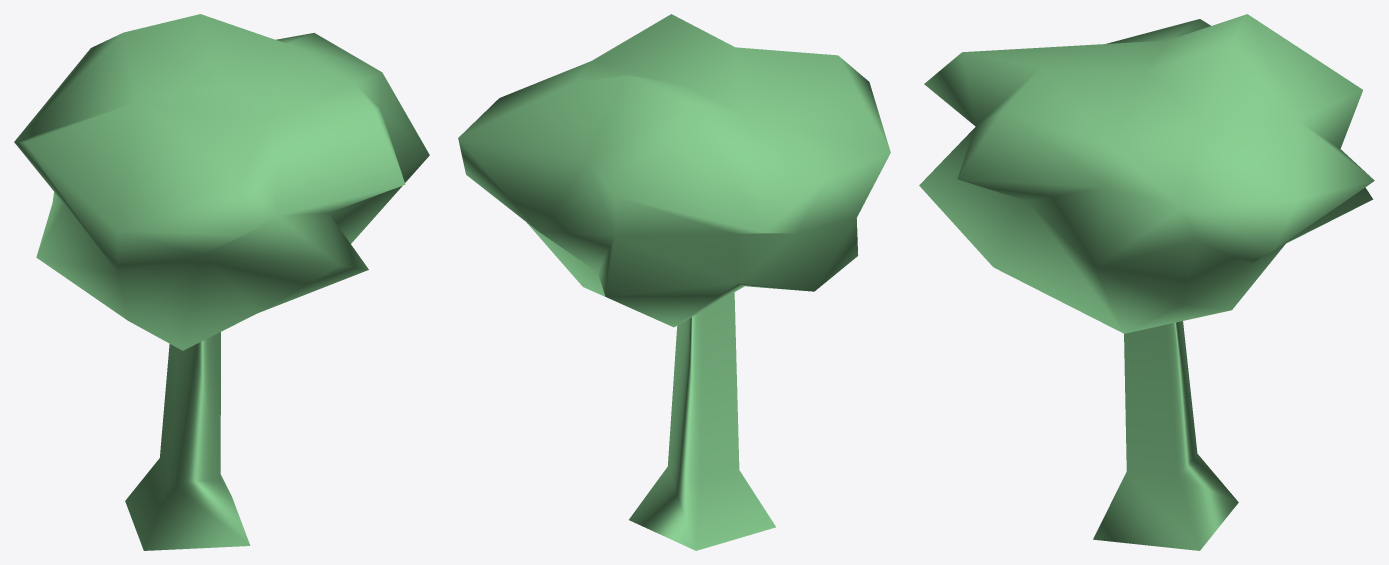
Rendered from Tree_1.fbx.
3 views of the same model, side by side, from view 1: azimuth 30°, elevation 25°; view 2: azimuth 150°, elevation 25°; view 3: azimuth 270°, elevation 25° (orthographic). The views are drawn at different scales.
Parts seen in each view (by area): view 1: polySurface3050; view 2: polySurface3050; view 3: polySurface3050.
Part boxes in pixels (x1,y1,x2,y2): polySurface3050: (14,14,429,550); polySurface3050: (458,14,890,550); polySurface3050: (919,14,1374,550).
Bounding box in the file's own units: 27.37 × 35.29 × 28.86.
